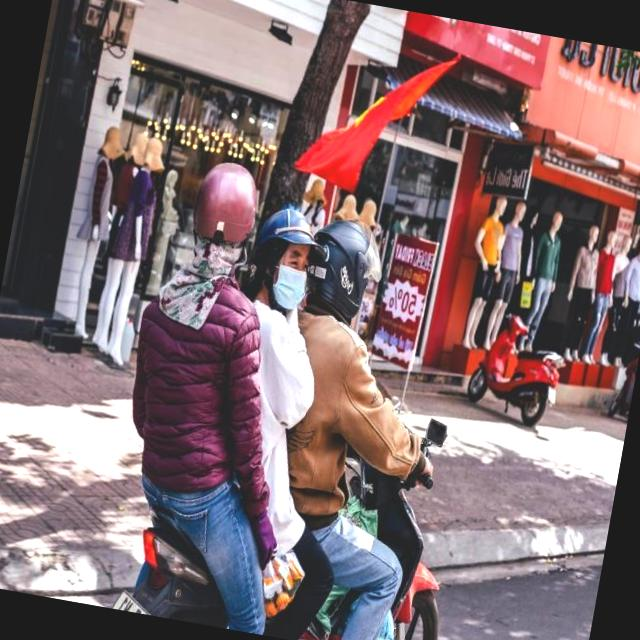motorcycle: (103, 356, 485, 640)
person: (92, 143, 322, 580), (246, 210, 476, 612), (170, 189, 378, 598)
rider_region: (93, 151, 526, 640)
